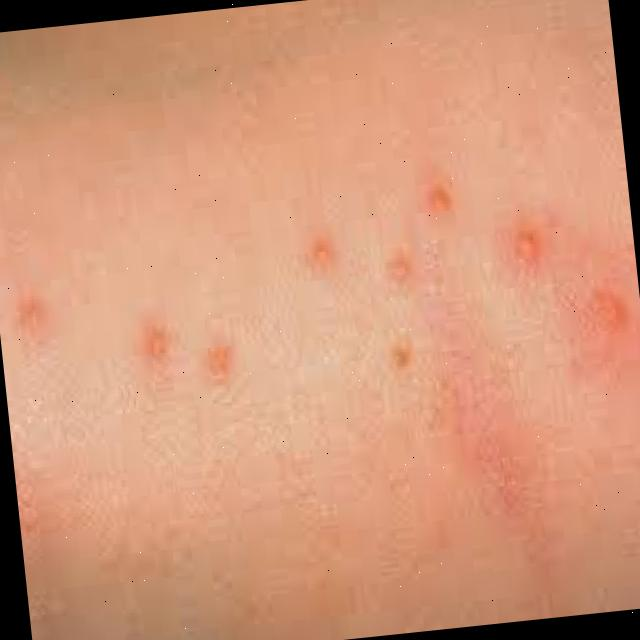kan emici bocekler: (202, 340, 248, 398), (374, 246, 426, 292), (589, 282, 625, 334), (386, 334, 416, 390), (144, 326, 175, 369), (425, 183, 459, 219), (310, 235, 336, 274), (513, 228, 543, 261)
